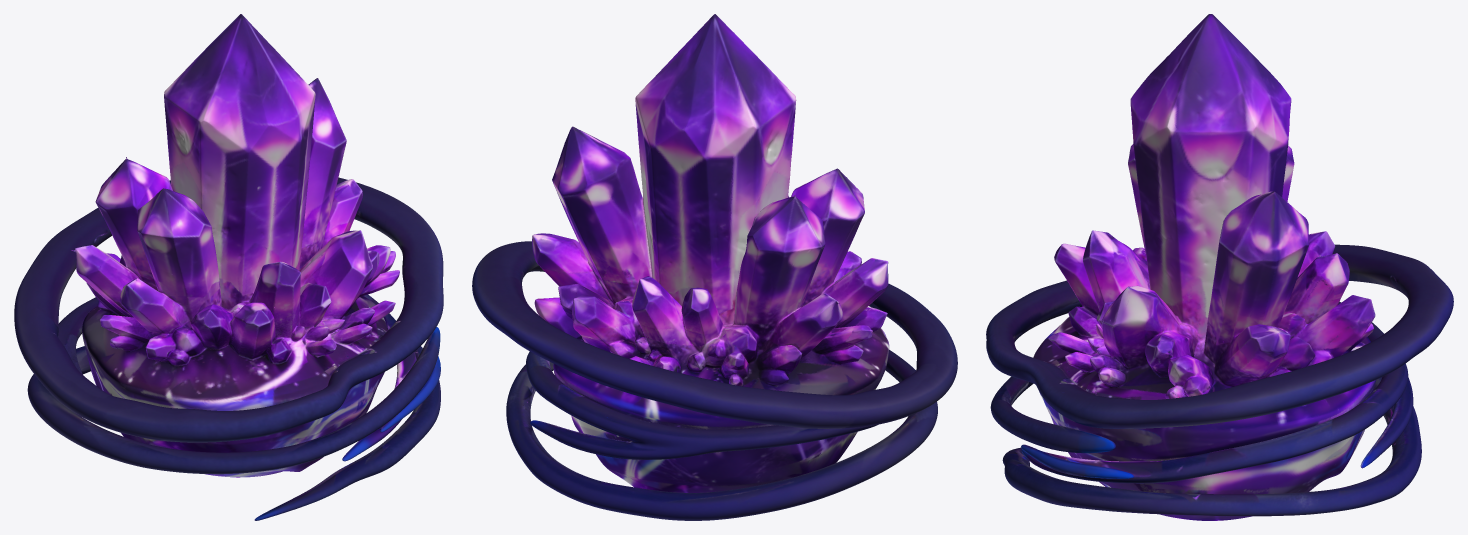
File: AmethystCluster.glb
The picture shows the model from 3 angles, left to right: view 1: azimuth 30°, elevation 25°; view 2: azimuth 150°, elevation 25°; view 3: azimuth 270°, elevation 25°; orthographic projection. The views are drawn at different scales.
Size of the model in its own units: 1.71 by 1.9 by 1.6.
1 material, 1 textured.
